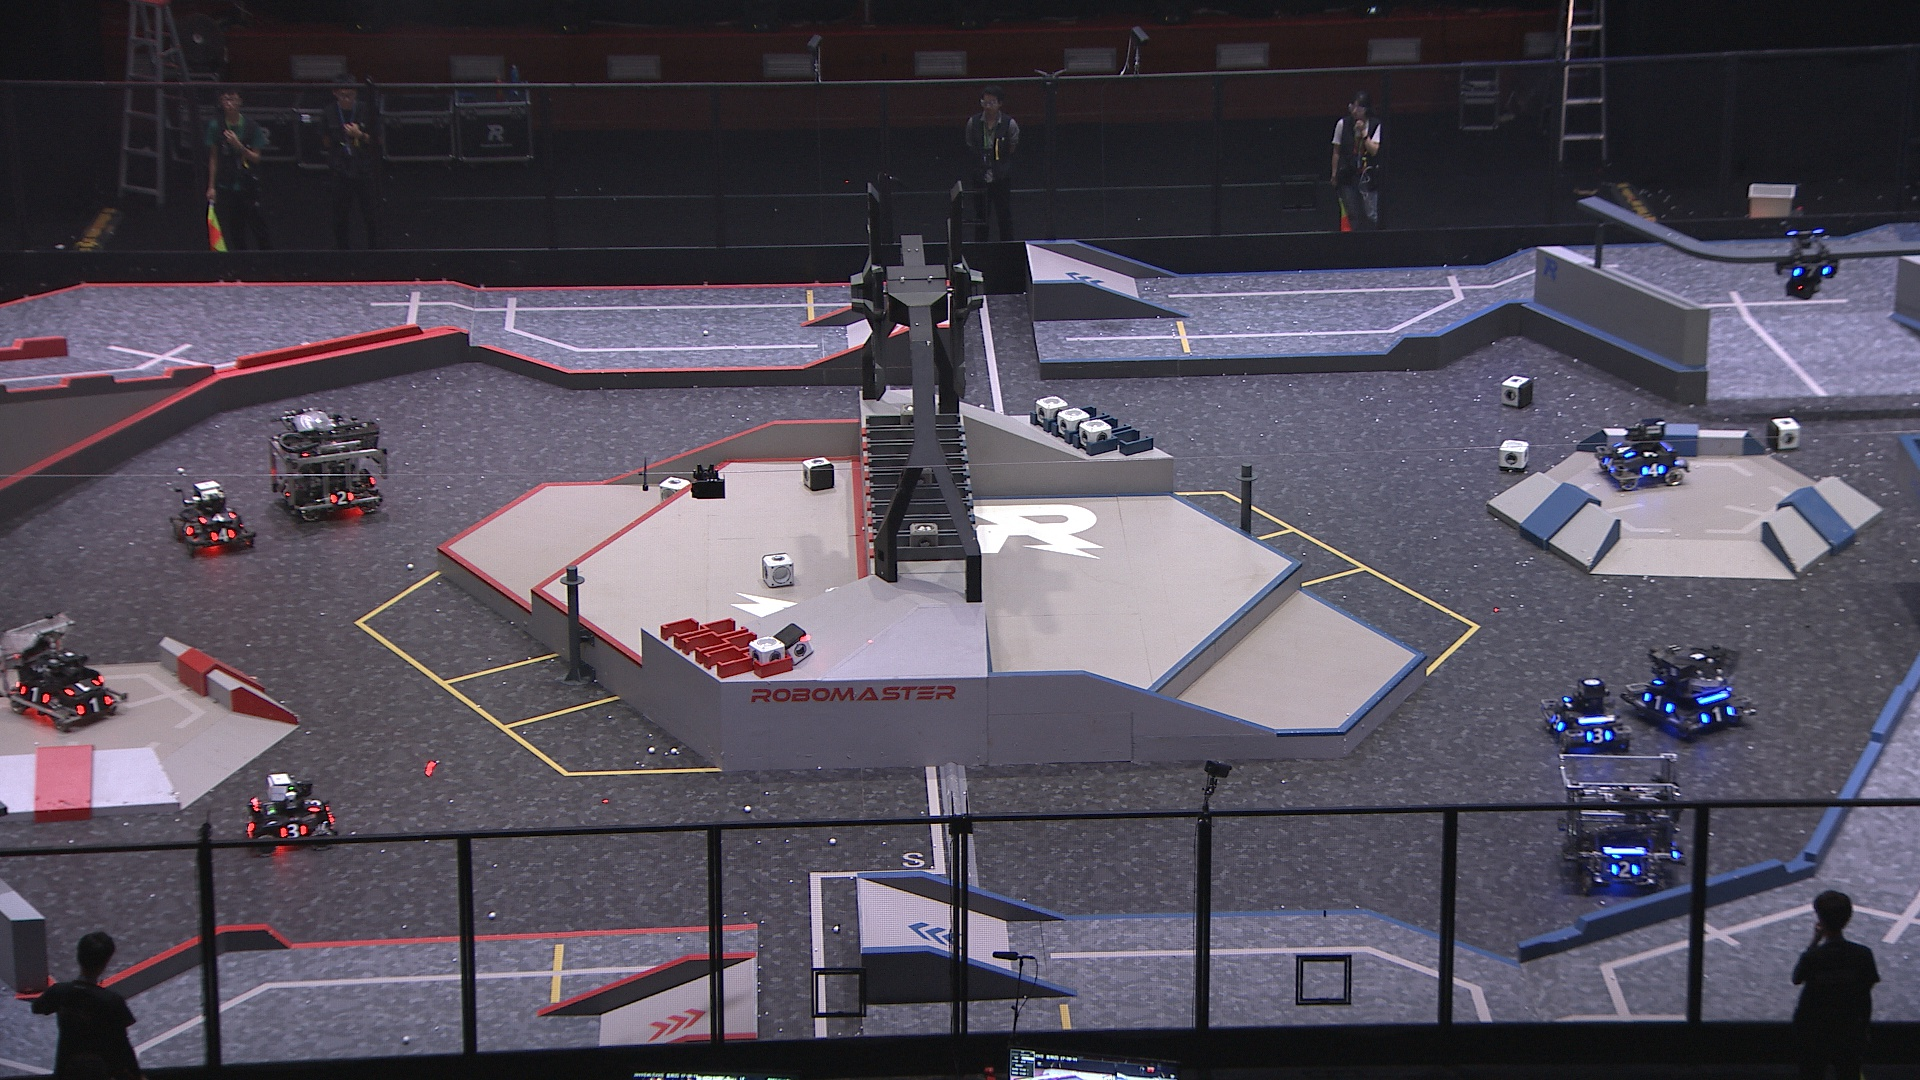armor: (1702, 704, 1738, 731), (1642, 688, 1675, 716), (63, 676, 102, 698), (1793, 262, 1836, 281), (73, 695, 113, 713), (18, 683, 51, 705), (1609, 858, 1642, 880), (199, 510, 239, 526), (278, 822, 311, 840), (1586, 723, 1613, 745), (1640, 462, 1669, 480), (210, 527, 237, 545), (1548, 711, 1567, 735), (328, 491, 353, 508), (305, 796, 324, 815), (278, 481, 295, 502), (1613, 443, 1636, 458), (1604, 455, 1621, 473), (179, 520, 196, 537)
car: (1557, 752, 1685, 891), (266, 404, 392, 524), (1623, 640, 1755, 737), (243, 771, 339, 858), (1592, 419, 1692, 495), (1539, 678, 1633, 756), (169, 479, 258, 556)
watcher: (1774, 228, 1840, 301)
